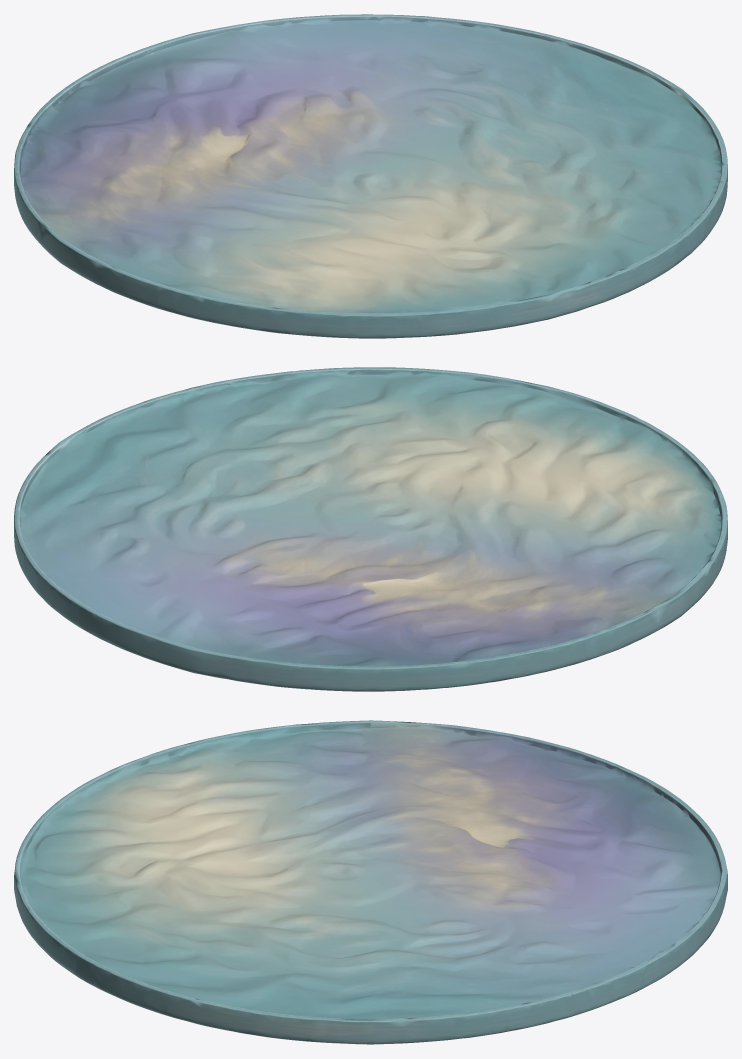
Rendered from water+dish+3d+model+1k.glb.
3 views of the same model, one above another, from view 1: azimuth 30°, elevation 25°; view 2: azimuth 150°, elevation 25°; view 3: azimuth 270°, elevation 25° (orthographic).
Visible parts, largest first — view 1: tripo_node_9b51c146-4ee2-4ad6-a19d-08bf49cd288b; view 2: tripo_node_9b51c146-4ee2-4ad6-a19d-08bf49cd288b; view 3: tripo_node_9b51c146-4ee2-4ad6-a19d-08bf49cd288b.
Part boxes in pixels (x1,y1,x2,y2): tripo_node_9b51c146-4ee2-4ad6-a19d-08bf49cd288b: (14, 14, 727, 338); tripo_node_9b51c146-4ee2-4ad6-a19d-08bf49cd288b: (14, 367, 727, 691); tripo_node_9b51c146-4ee2-4ad6-a19d-08bf49cd288b: (14, 720, 727, 1044).
Size of the model in its own units: 0.9997 by 0.0384 by 1.
Materials: 1 (1 with a texture image).
